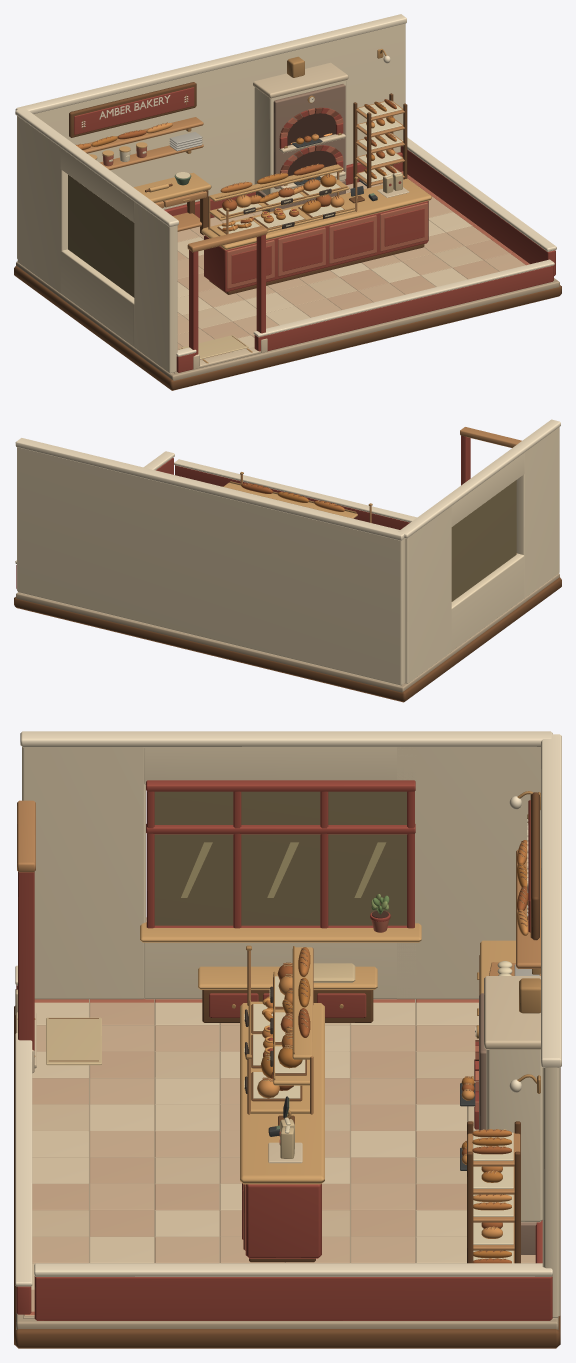
Rendered from bakery.glb.
3 views of the same model, one above another, from view 1: azimuth 30°, elevation 25°; view 2: azimuth 150°, elevation 25°; view 3: azimuth 270°, elevation 25° (orthographic). The views are drawn at different scales.
Visible parts, largest first — view 1: · Bakery | wheat plaster, · Bakery | warm ivory trim, · Bakery | brick-red lacquer, · Bakery | honey beige tile, · Bakery | brick-red lacquer.001, · Bakery | toasted walnut, · Bakery | shaded honey-glass, · Bakery | cream grout, · Bakery | ivory tile, · Bakery | butcher block maple, · Bakery | dusty almond tile, · Bakery | honey oak.001 (+25 smaller); view 2: · Bakery | wheat plaster, · Bakery | warm ivory trim, · Bakery | toasted walnut, · Bakery | shaded honey-glass, · Bakery | cream grout, · Bakery | brick-red lacquer, · Bakery | butcher block maple, · Bakery | honey oak.002, · Bakery | brick-red lacquer.003; view 3: · Bakery | wheat plaster, · Bakery | honey beige tile, · Bakery | shaded honey-glass, · Bakery | warm ivory trim, · Bakery | ivory tile, · Bakery | brick-red lacquer, · Bakery | dusty almond tile, · Bakery | brick-red lacquer.003, · Bakery | toasted walnut, · Bakery | warm milk tile, · Bakery | butcher block maple, · Bakery | cream grout (+22 smaller).
Part boxes in pixels (x1,y1,x2,y2): · Bakery | wheat plaster: (17,23,405,373); · Bakery | warm ivory trim: (15,14,556,356); · Bakery | brick-red lacquer: (164,146,555,372); · Bakery | honey beige tile: (177,178,525,359); · Bakery | brick-red lacquer.001: (204,181,428,292); · Bakery | toasted walnut: (14,265,561,390); · Bakery | shaded honey-glass: (68,175,134,297); · Bakery | cream grout: (16,184,559,380); · Bakery | ivory tile: (177,212,472,351); · Bakery | butcher block maple: (201,164,431,249); · Bakery | dusty almond tile: (177,196,509,349); · Bakery | honey oak.001: (83,100,404,231); · Bakery | wheat plaster: (17,427,559,685); · Bakery | warm ivory trim: (15,419,560,564); · Bakery | toasted walnut: (14,577,561,702); · Bakery | shaded honey-glass: (451,480,516,601); · Bakery | cream grout: (16,573,559,692); · Bakery | brick-red lacquer: (16,457,409,588); · Bakery | butcher block maple: (224,482,357,518); · Bakery | honey oak.002: (460,427,521,447); · Bakery | brick-red lacquer.003: (461,435,470,485); · Bakery | wheat plaster: (22,747,560,1318); · Bakery | honey beige tile: (32,1023,535,1263); · Bakery | shaded honey-glass: (154,791,406,925); · Bakery | warm ivory trim: (15,731,561,1286); · Bakery | ivory tile: (31,1000,478,1289); · Bakery | brick-red lacquer: (16,985,552,1320); · Bakery | dusty almond tile: (24,1002,466,1315); · Bakery | brick-red lacquer.003: (18,780,415,1050); · Bakery | toasted walnut: (14,1006,560,1348); · Bakery | warm milk tile: (32,1023,475,1236); · Bakery | butcher block maple: (240,947,324,1184); · Bakery | cream grout: (16,999,558,1329).
Bounding box in the file's own units: 7.91 × 3.24 × 5.54.
